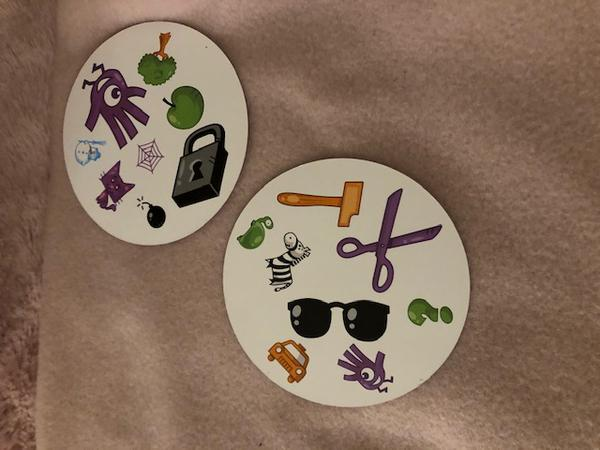arbre: (138, 30, 178, 87)
bombe: (135, 194, 168, 231)
bonhomme_neige: (69, 135, 108, 169)
cadenas: (172, 120, 229, 211)
chat: (92, 160, 137, 217)
ciseau: (334, 189, 444, 291)
dooble: (75, 61, 151, 148), (332, 344, 395, 395)
lunette: (285, 293, 393, 345)
marteau: (275, 178, 363, 230)
point_interrogation: (403, 296, 453, 330)
pomme: (161, 83, 209, 134)
toile: (133, 135, 163, 176)
tortue: (238, 209, 276, 254)
voiture: (264, 338, 315, 384)
zebre: (262, 230, 314, 295)
